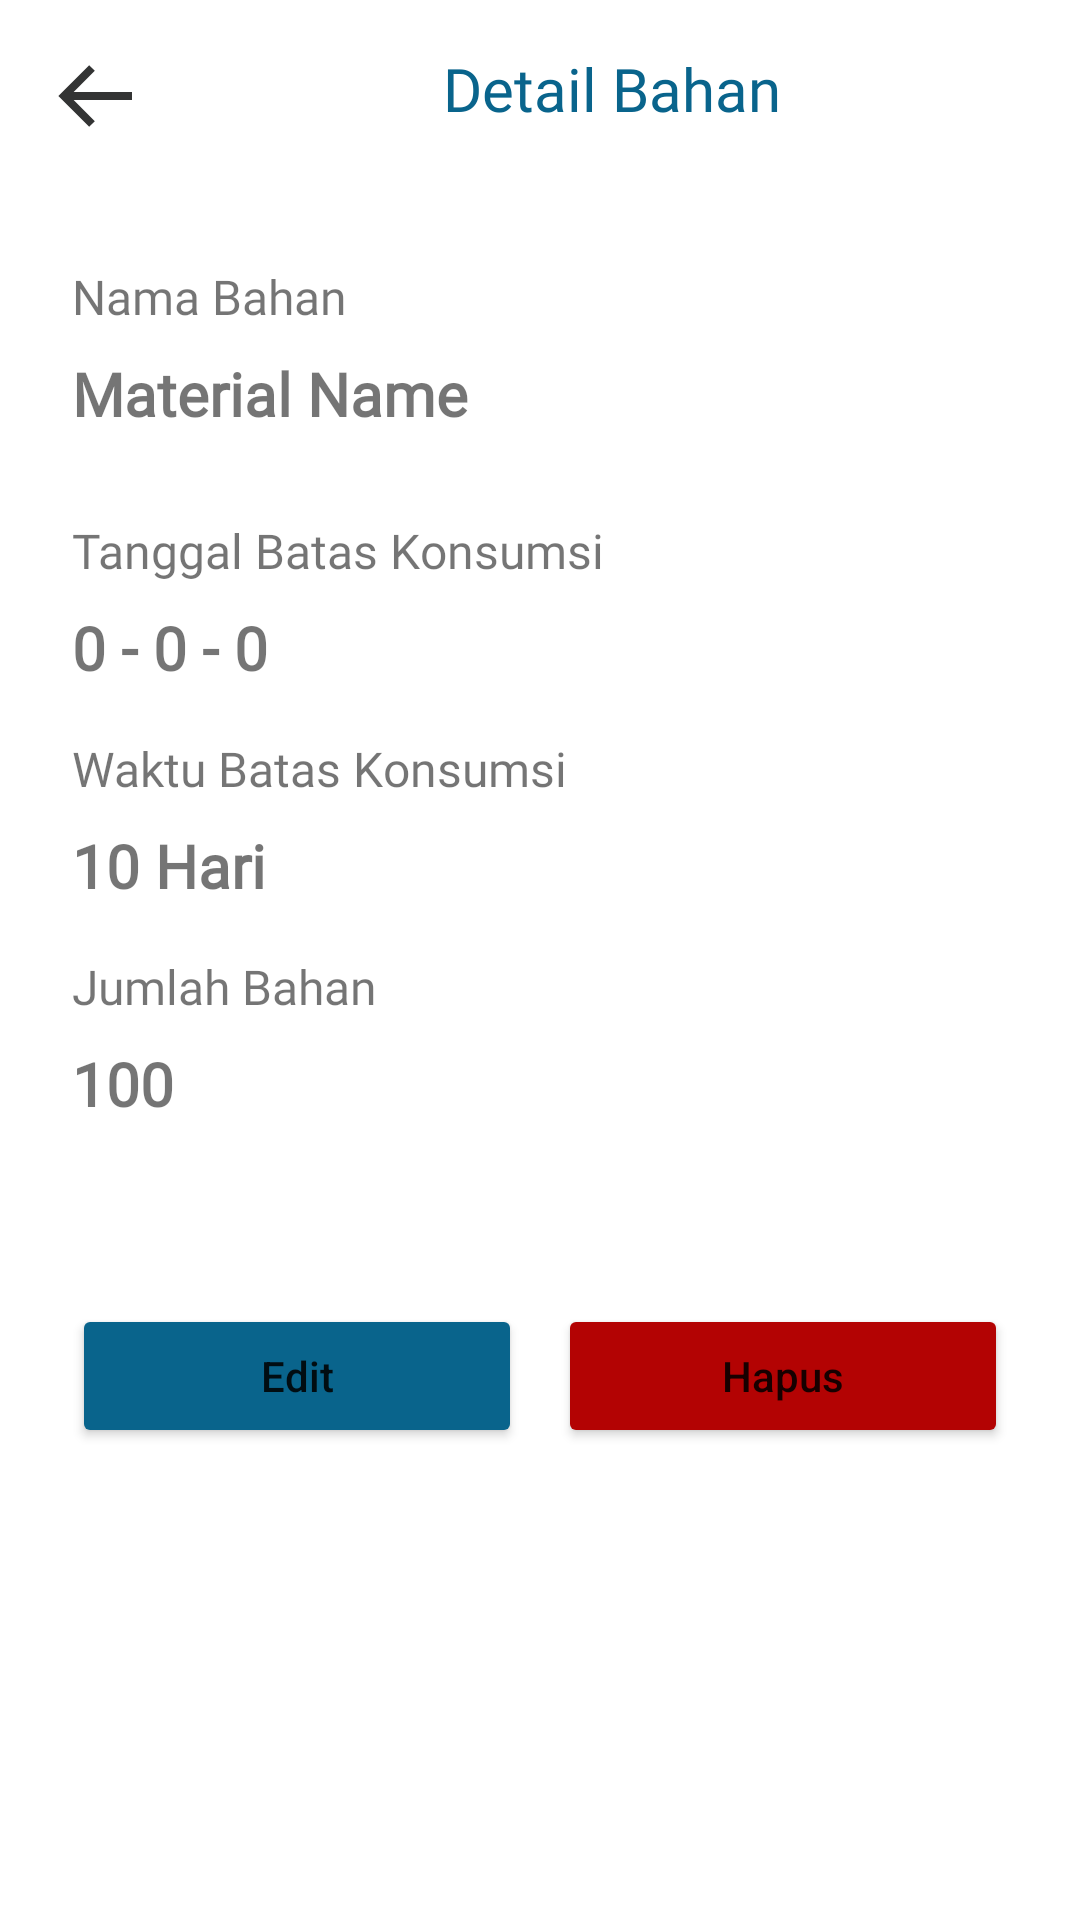

Icons on this 1080px x 1920px Android screen, each with the point to tap as (x,y):
back: (95,96)
